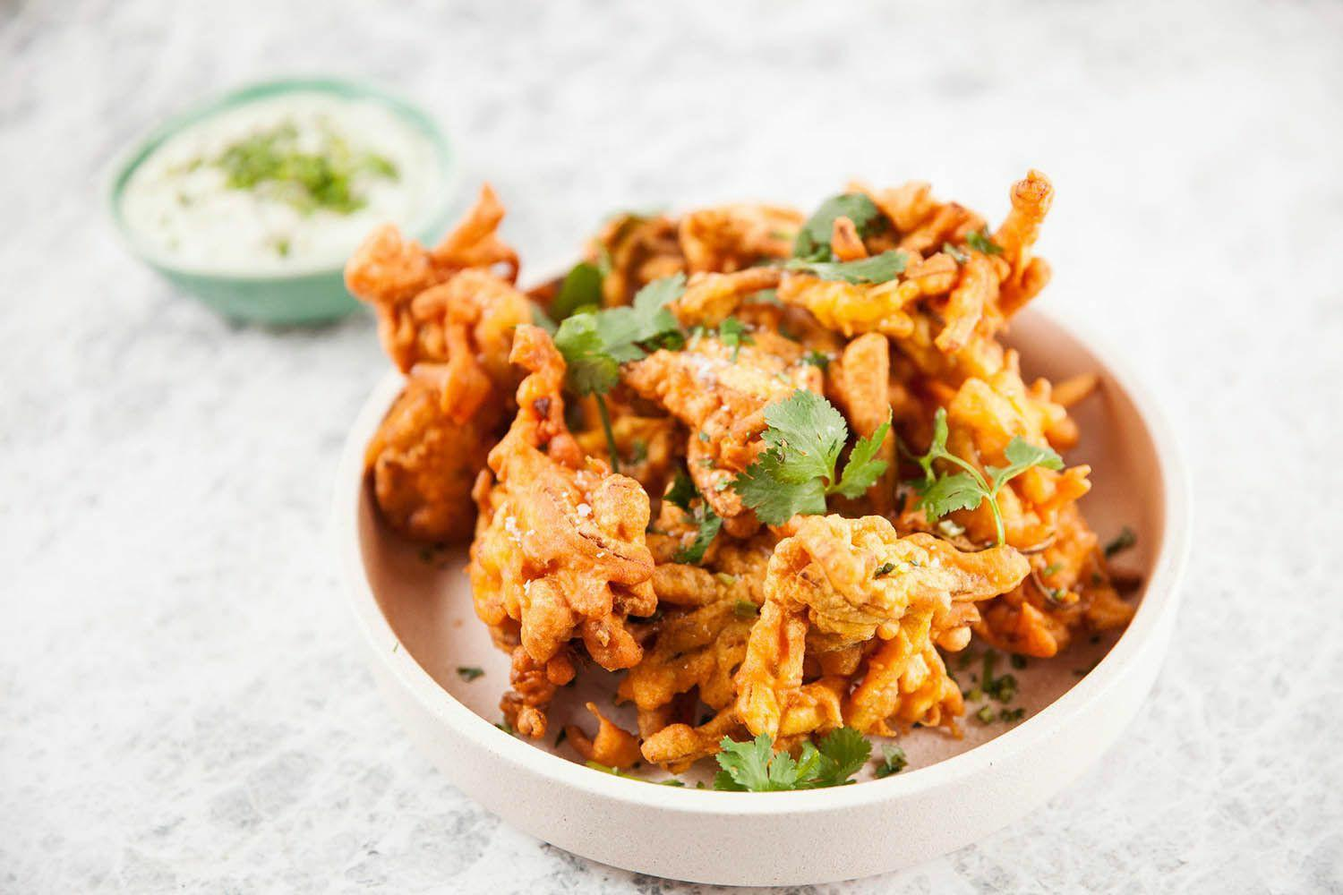OnionPakoda: (350, 136, 1112, 765)
